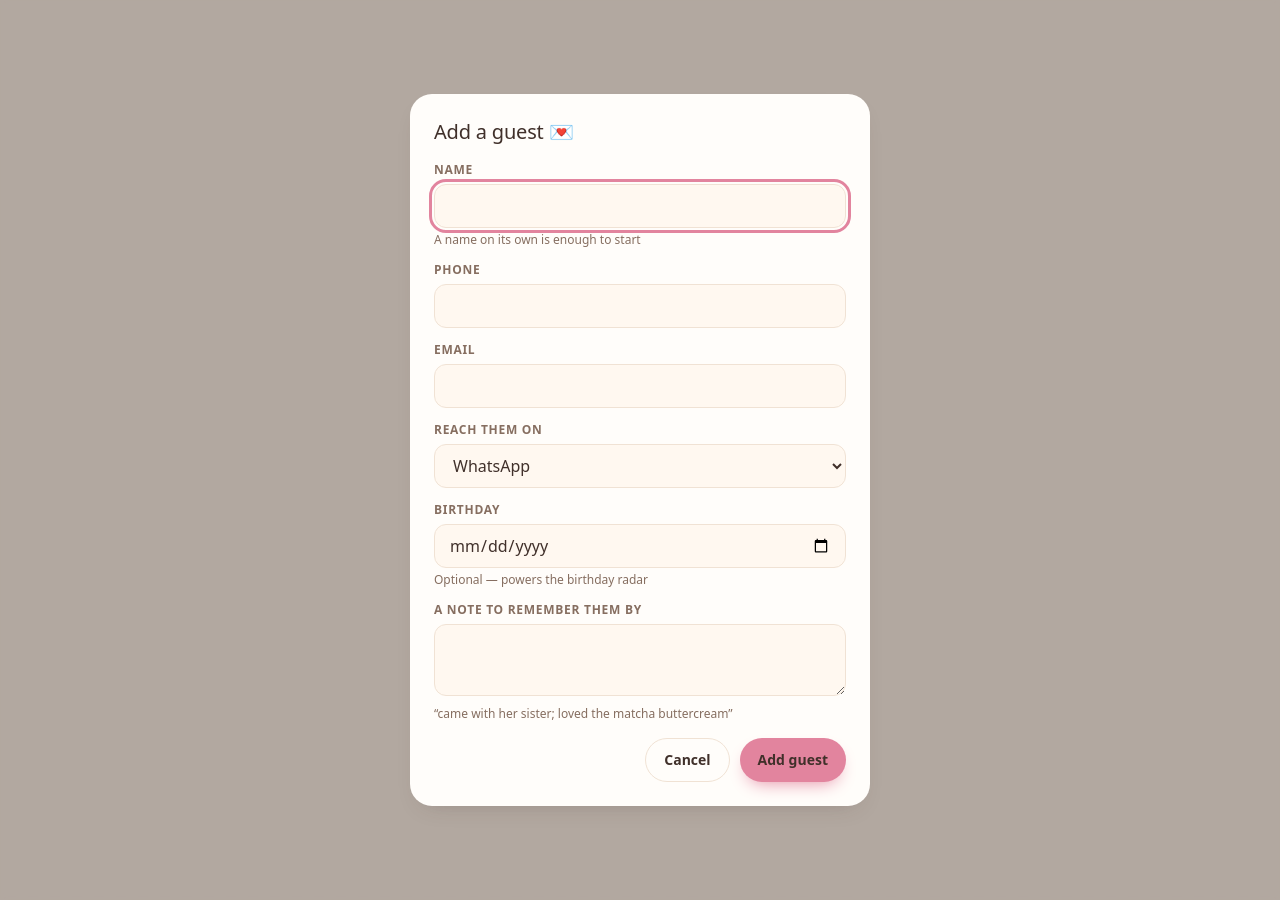
AddGuestModal › offers to merge rather than losing the form on a duplicate
Type "Sana" into the field labelled "Name" at (640, 206), box [434,184,846,228]
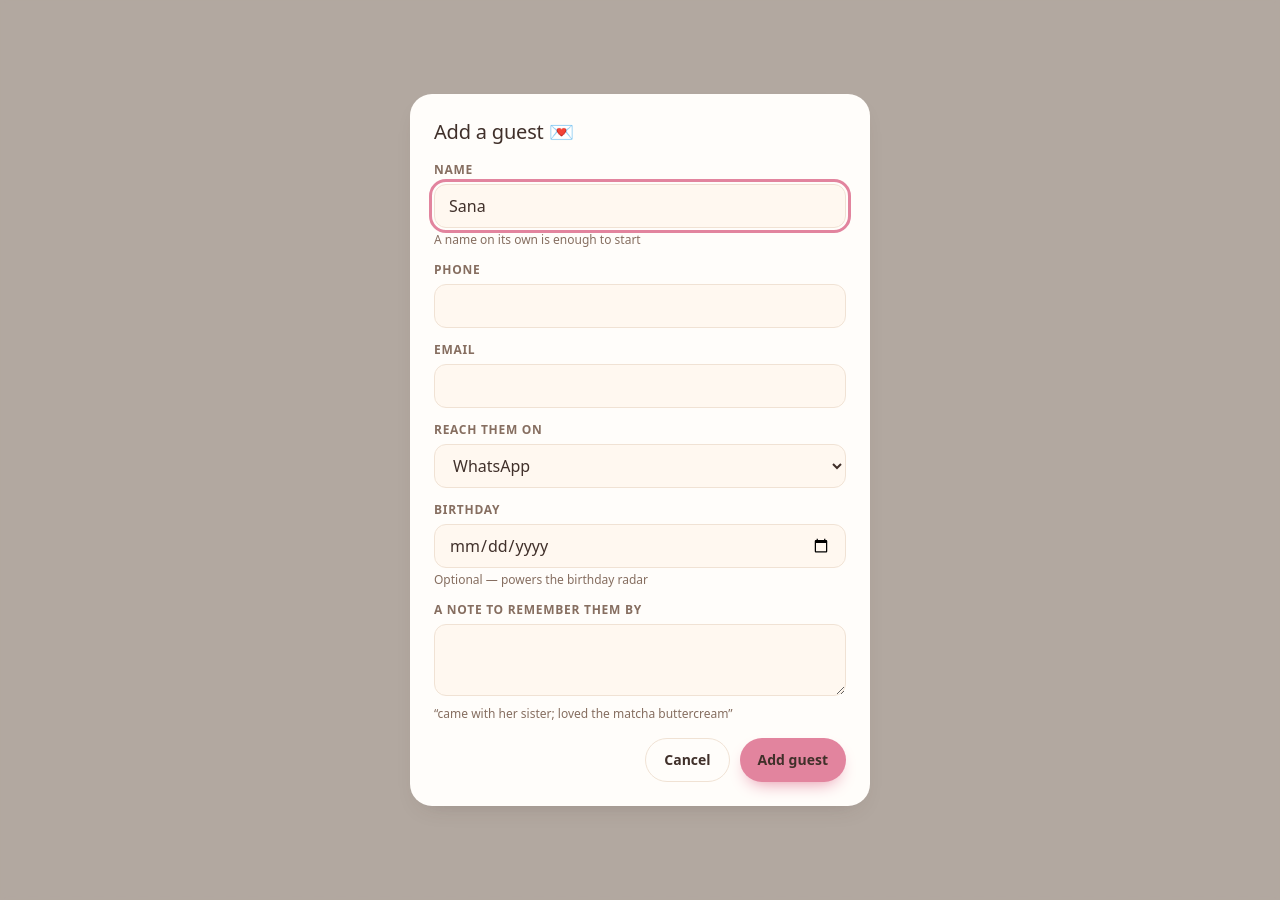
Click the button "Add guest" at (793, 760), box [740,738,846,782]
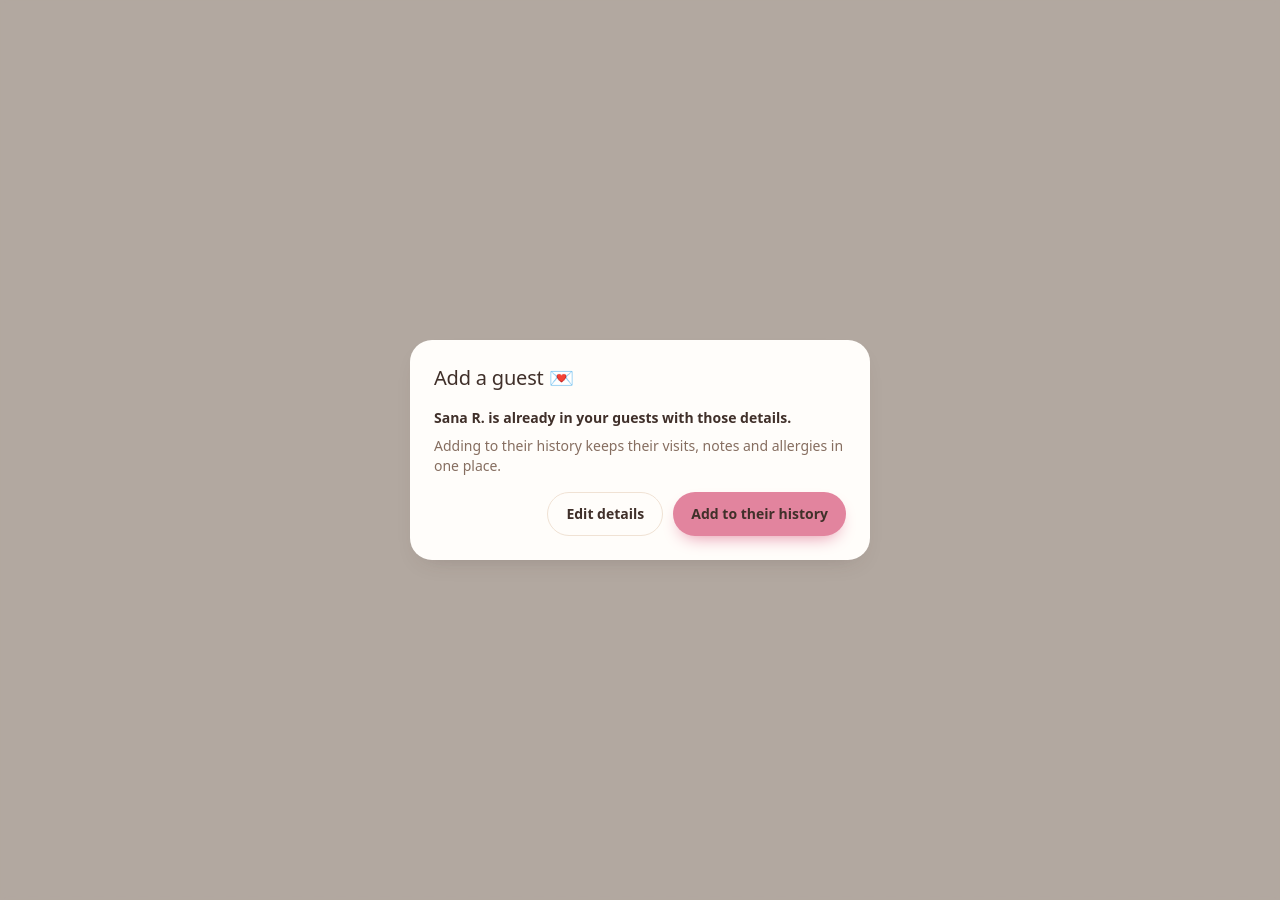
Now the message shows "already in your guests", box [434,408,791,427]
Now the button "Add to their history" is shown, box [673,492,846,536]
